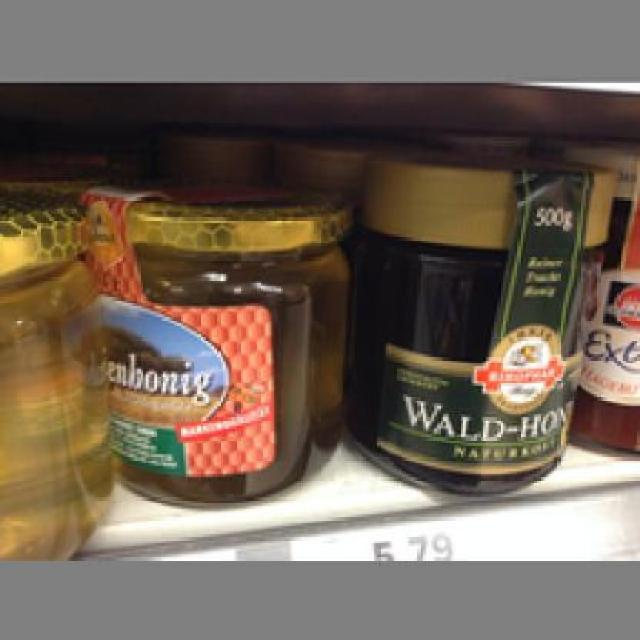Honey: (357, 150, 612, 487), (77, 186, 343, 492)
